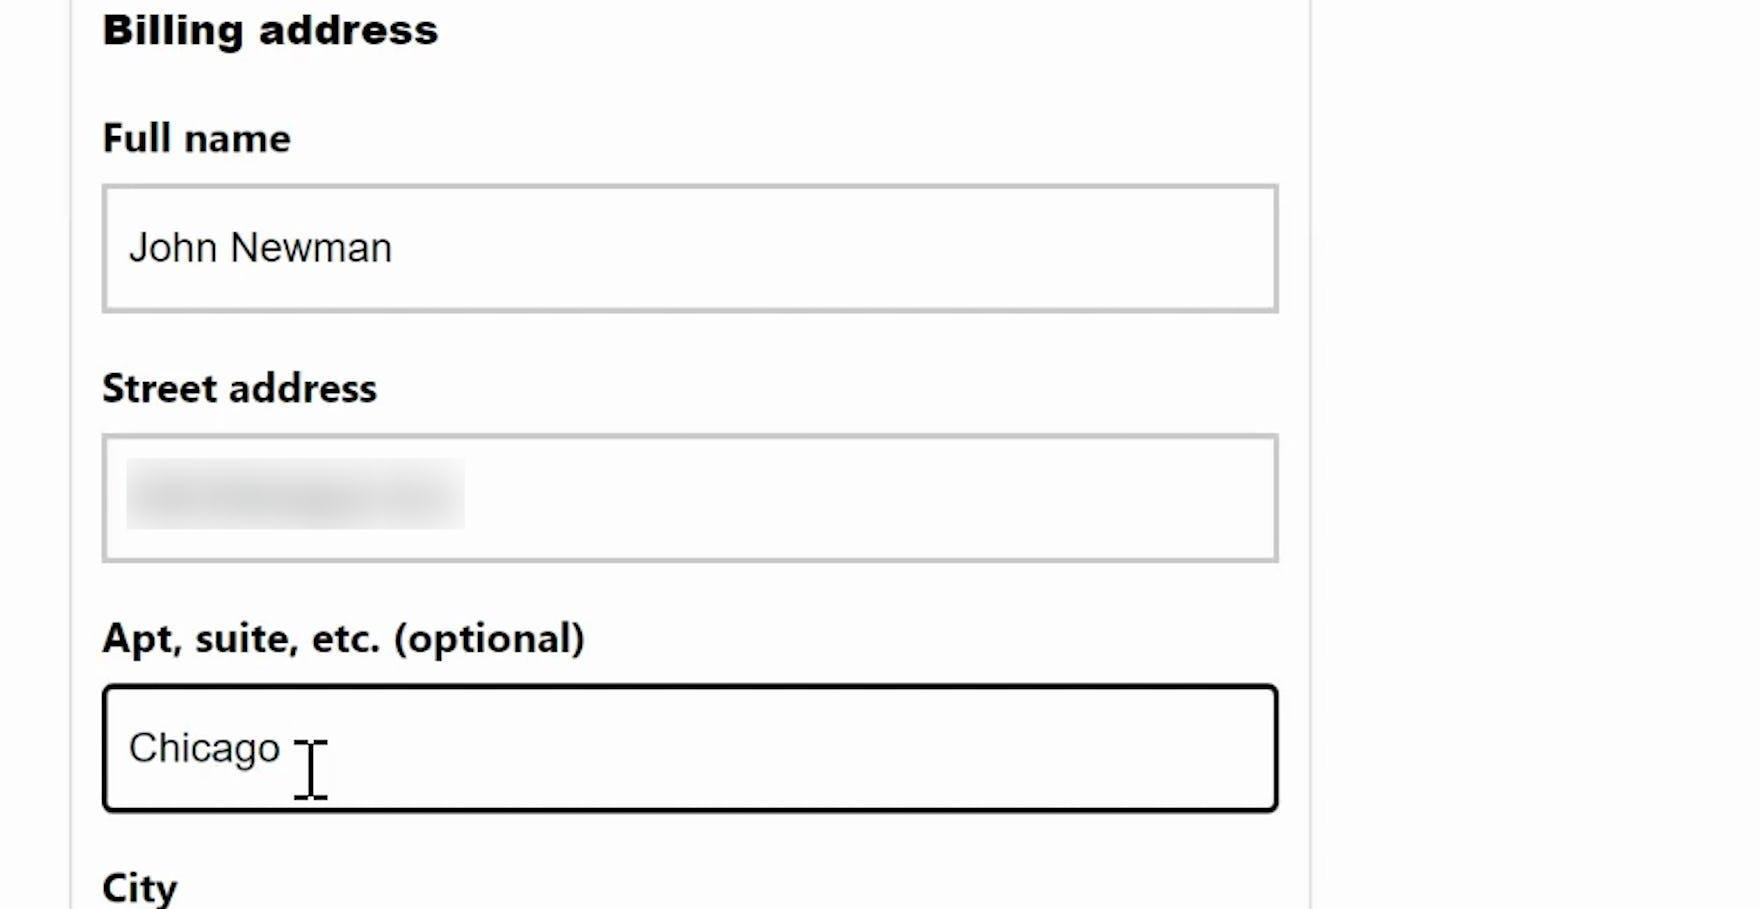input: (107, 685, 1274, 815), (102, 439, 1278, 562), (108, 186, 1281, 308)
label: (100, 620, 592, 667), (92, 10, 454, 58), (104, 364, 388, 420), (102, 115, 297, 165), (97, 864, 184, 909)
